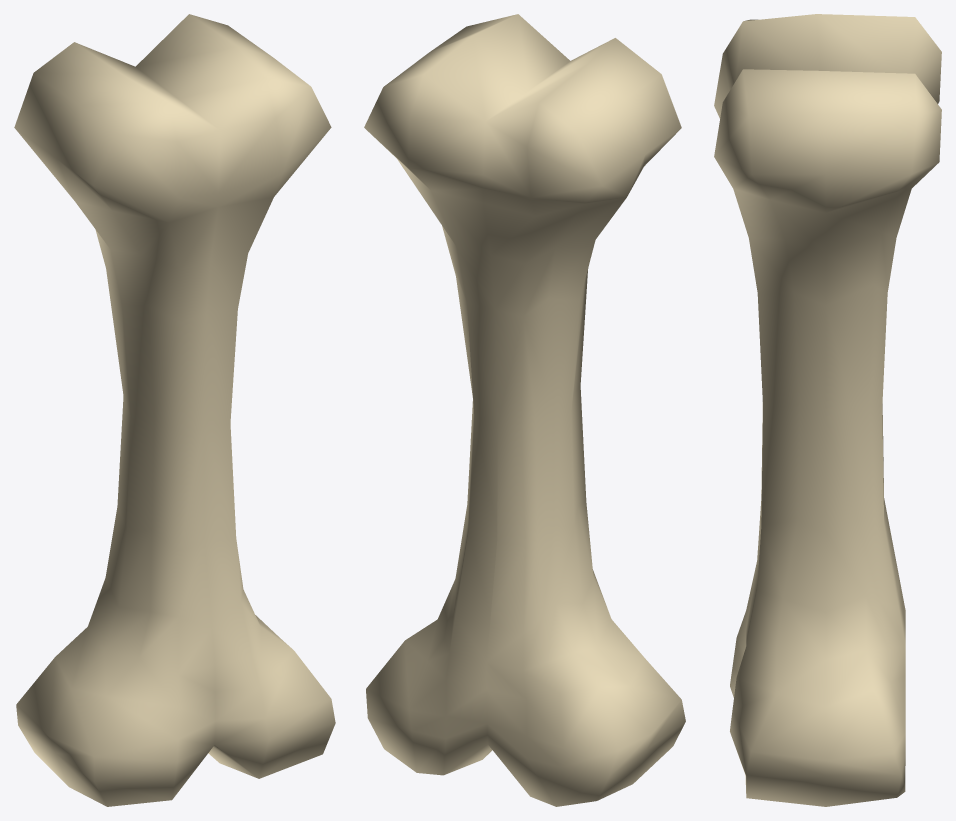
The model's file is Bone.fbx.
3 renders of one model, left to right at view 1: azimuth 30°, elevation 25°; view 2: azimuth 150°, elevation 25°; view 3: azimuth 270°, elevation 25°, orthographic.
Visible parts, largest first — view 1: Bone; view 2: Bone; view 3: Bone.
Boxes of the visible parts, bbox=[...] form: Bone: bbox=[14, 14, 335, 806]; Bone: bbox=[364, 14, 685, 806]; Bone: bbox=[714, 14, 941, 806].
Size of the model in its own units: 94.33 by 256 by 72.9.
